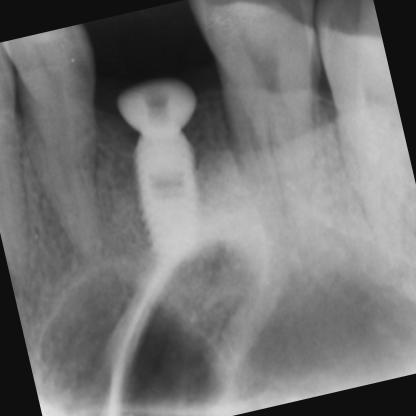Bicon: (122, 124, 227, 266)
